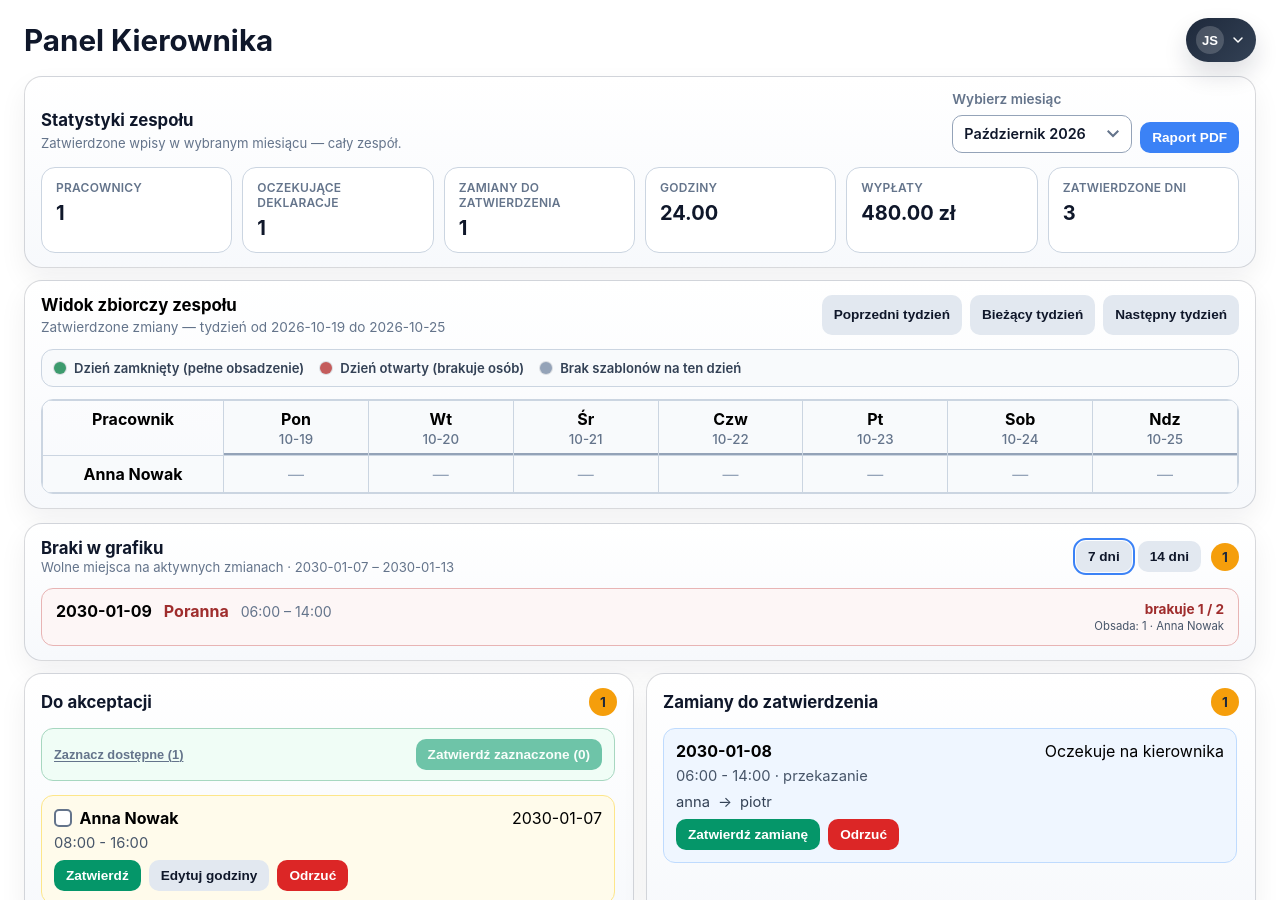
approving a proposal sends its hours and reports success
The image size is (1280, 900).
expect the text "Anna Nowak" is shown: met, box [80,808,178,828]
What coordinates should you click on to do the following:
click the button "Zatwierdź"
I would click on:
 (97, 876)
Its box is [54,860,141,891].
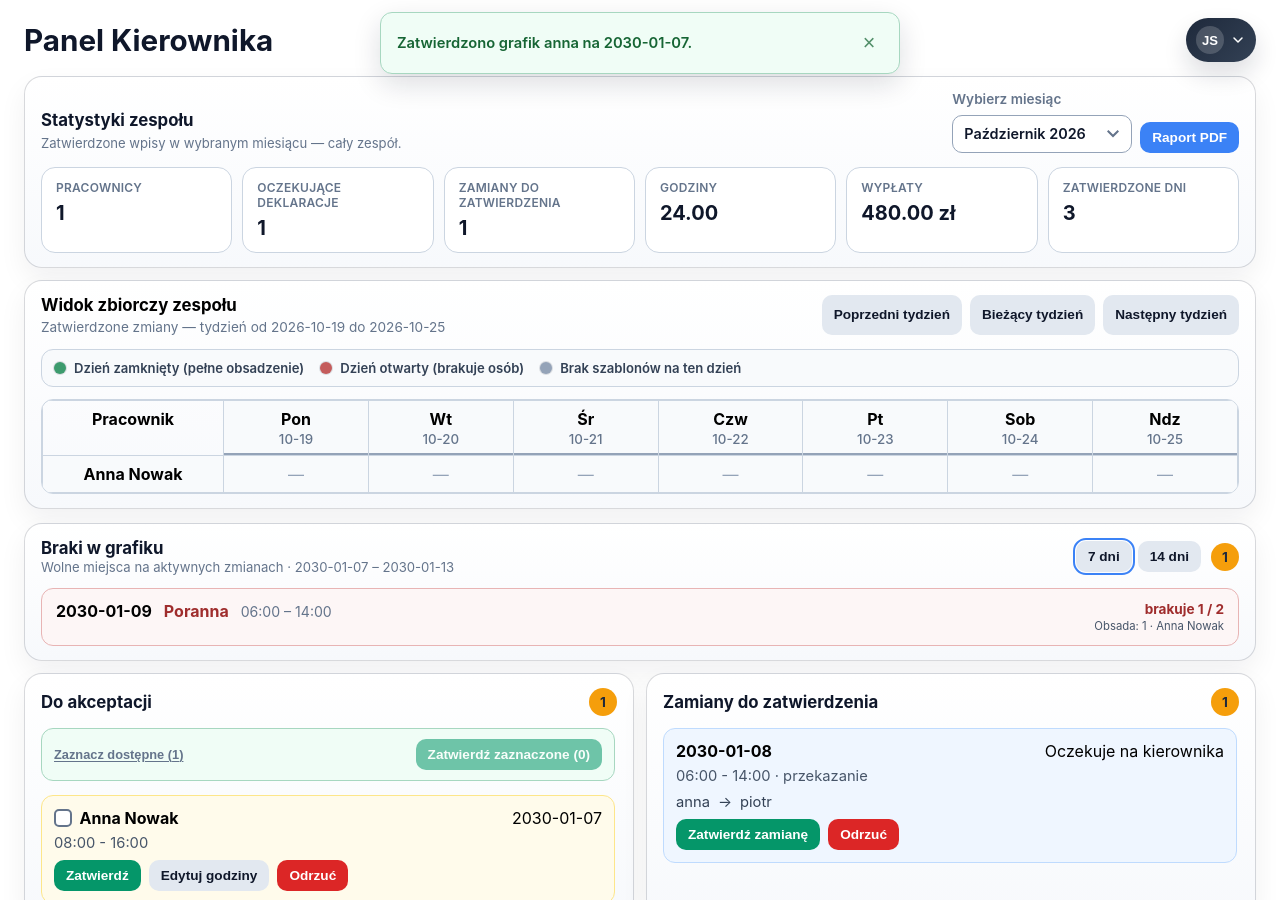
expect the text "Zatwierdzono grafik anna na 2030-01-07." is shown: met, box [397,34,692,52]
